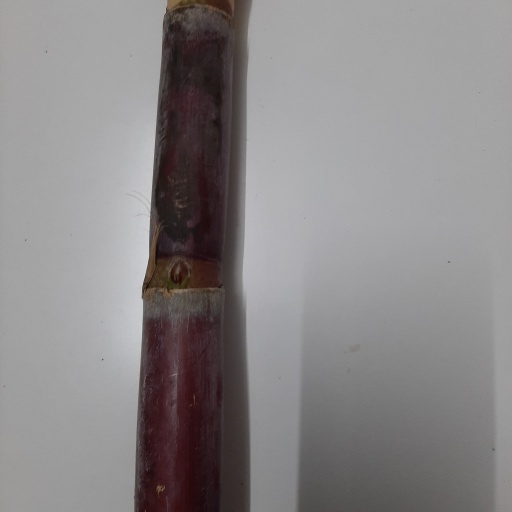Bud: (168, 259, 190, 287)
